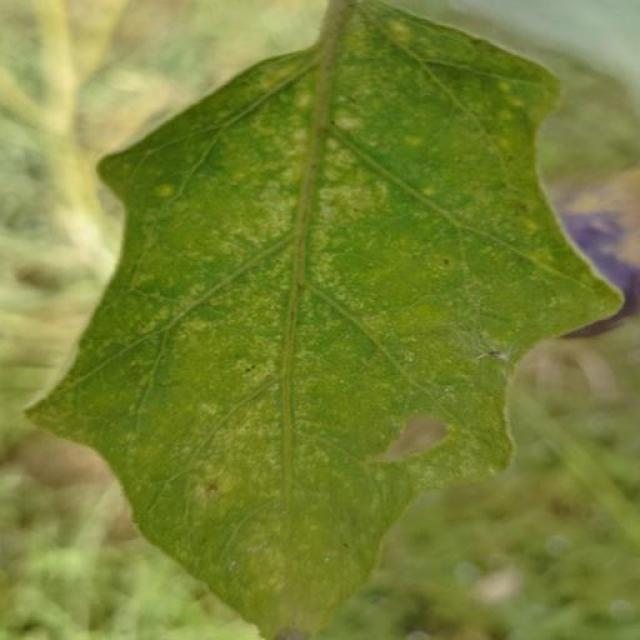leaf_spot: (439, 136, 626, 330), (197, 108, 395, 262), (102, 385, 230, 590), (317, 230, 478, 384), (246, 341, 383, 500), (156, 331, 297, 449), (175, 263, 333, 361), (272, 2, 462, 78), (247, 482, 335, 640), (64, 310, 191, 401), (130, 215, 218, 346), (342, 382, 478, 466), (252, 62, 374, 148), (351, 112, 462, 192), (167, 439, 268, 517), (35, 371, 117, 461), (458, 543, 554, 616), (454, 324, 550, 380), (412, 238, 489, 301), (474, 61, 540, 134), (373, 8, 427, 51), (232, 302, 287, 334), (143, 153, 176, 204)
